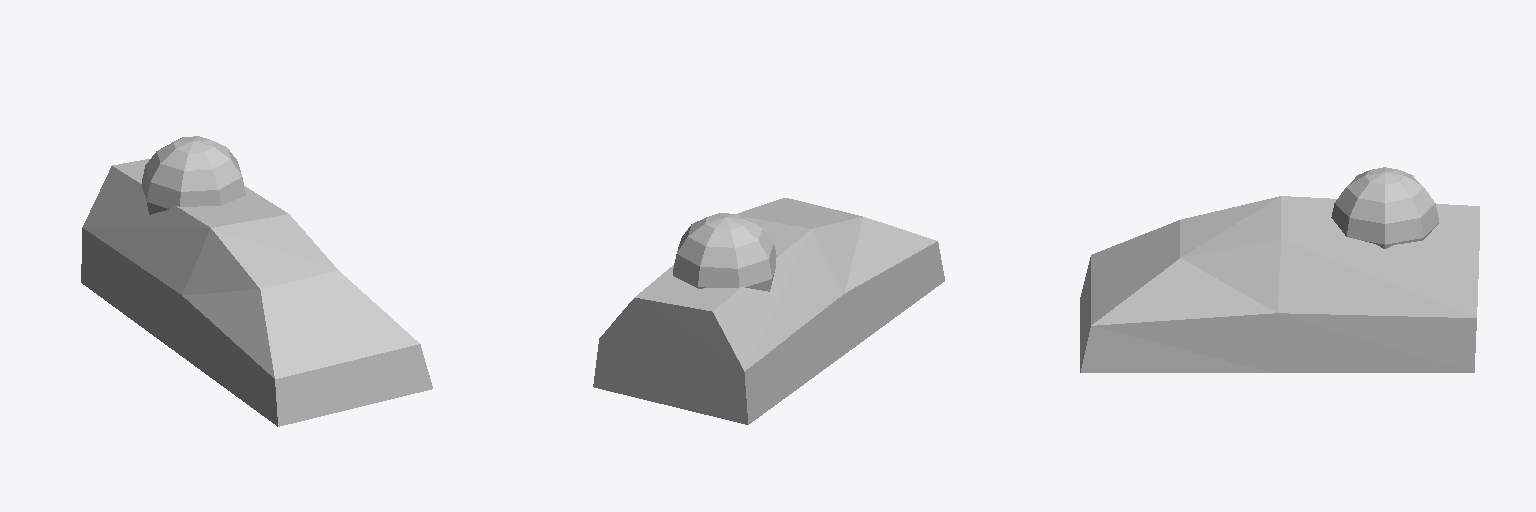
File: left_foot.obj
The picture shows the model from 3 angles: view 1: azimuth 30°, elevation 25°; view 2: azimuth 150°, elevation 25°; view 3: azimuth 270°, elevation 25°; orthographic projection.
Parts seen in each view (by area): view 1: Left_Foot.001_Cube.014; view 2: Left_Foot.001_Cube.014; view 3: Left_Foot.001_Cube.014.
Boxes of the visible parts, x1=… form: Left_Foot.001_Cube.014: x1=81, y1=136, x2=432, y2=426; Left_Foot.001_Cube.014: x1=593, y1=198, x2=944, y2=424; Left_Foot.001_Cube.014: x1=1080, y1=167, x2=1479, y2=372.
Size of the model in its own units: 0.2018 by 0.1961 by 0.4489.